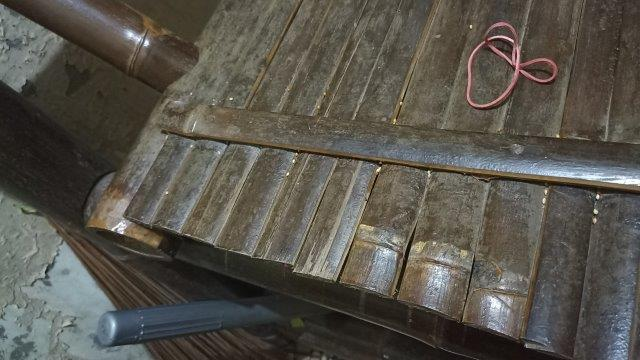karet: (467, 22, 557, 109)
